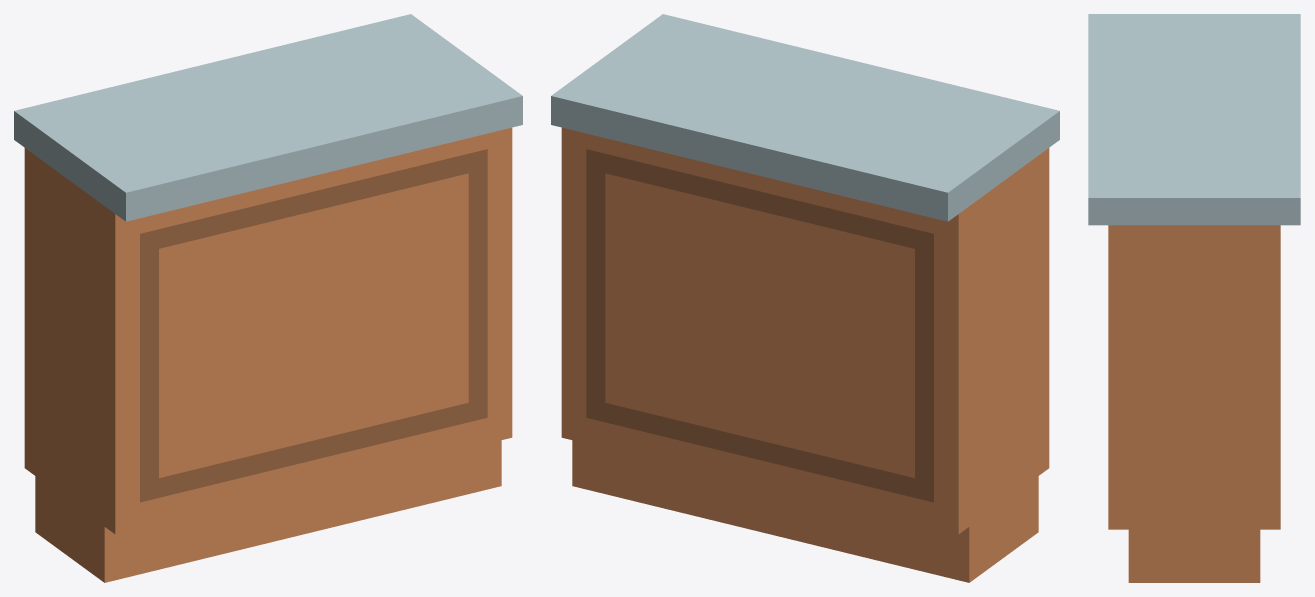
Rendered from kitchen_bar.obj.
The picture shows the model from 3 angles, left to right: view 1: azimuth 30°, elevation 25°; view 2: azimuth 150°, elevation 25°; view 3: azimuth 270°, elevation 25°; orthographic projection. The views are drawn at different scales.
Parts seen in each view (by area): view 1: kitchenBar:kitchenBar; view 2: kitchenBar:kitchenBar; view 3: kitchenBar:kitchenBar.
Part boxes in pixels (x1=…): kitchenBar:kitchenBar: x1=14, y1=14, x2=522, y2=582; kitchenBar:kitchenBar: x1=551, y1=14, x2=1059, y2=582; kitchenBar:kitchenBar: x1=1088, y1=14, x2=1300, y2=582.
Bounding box in the file's own units: 0.43 × 0.42 × 0.21.
